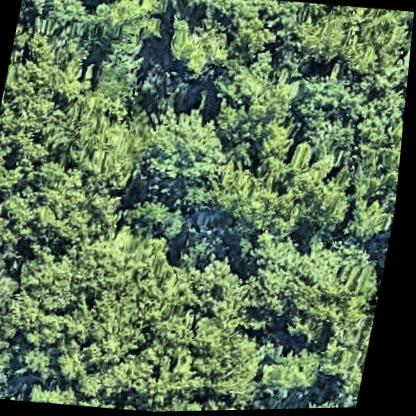tree-top: (67, 223, 199, 355), (248, 236, 382, 347), (9, 276, 112, 386), (298, 68, 409, 156), (31, 165, 140, 245), (0, 42, 87, 134), (211, 56, 301, 144), (138, 108, 227, 193), (186, 325, 275, 405), (185, 0, 287, 68), (287, 158, 360, 248), (339, 7, 415, 87), (159, 9, 238, 85), (192, 160, 271, 234), (258, 337, 337, 409), (284, 2, 358, 76), (184, 261, 260, 333), (111, 347, 185, 412), (11, 0, 90, 57), (345, 143, 405, 216), (122, 192, 194, 251), (86, 0, 159, 56), (83, 47, 148, 109), (0, 257, 31, 370), (344, 198, 400, 248), (4, 193, 50, 241), (28, 378, 98, 407), (146, 387, 220, 413), (199, 395, 290, 412), (0, 155, 24, 203), (228, 399, 316, 411), (0, 356, 22, 400), (301, 397, 364, 410), (0, 217, 19, 259), (136, 0, 178, 16), (58, 0, 136, 8)
